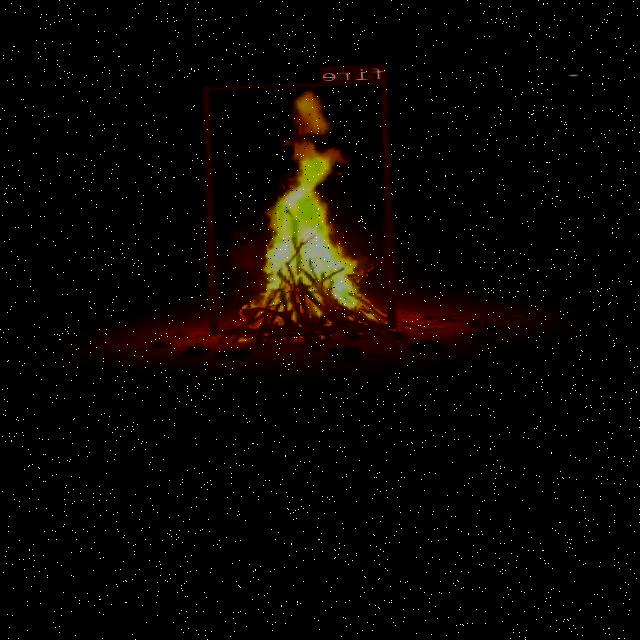fire: (204, 79, 398, 334)
